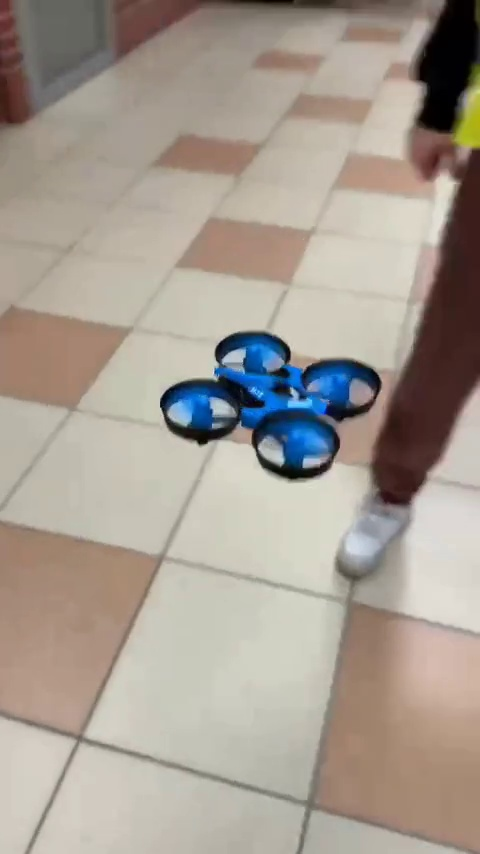drone: (161, 334, 384, 479)
